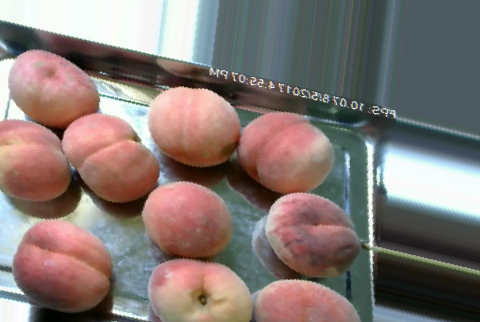Peach: (11, 217, 113, 314), (63, 112, 160, 203), (265, 193, 359, 275), (239, 111, 330, 192), (6, 49, 100, 127), (147, 85, 237, 165), (143, 179, 229, 256), (1, 115, 69, 204), (149, 260, 247, 320), (251, 278, 360, 321)
